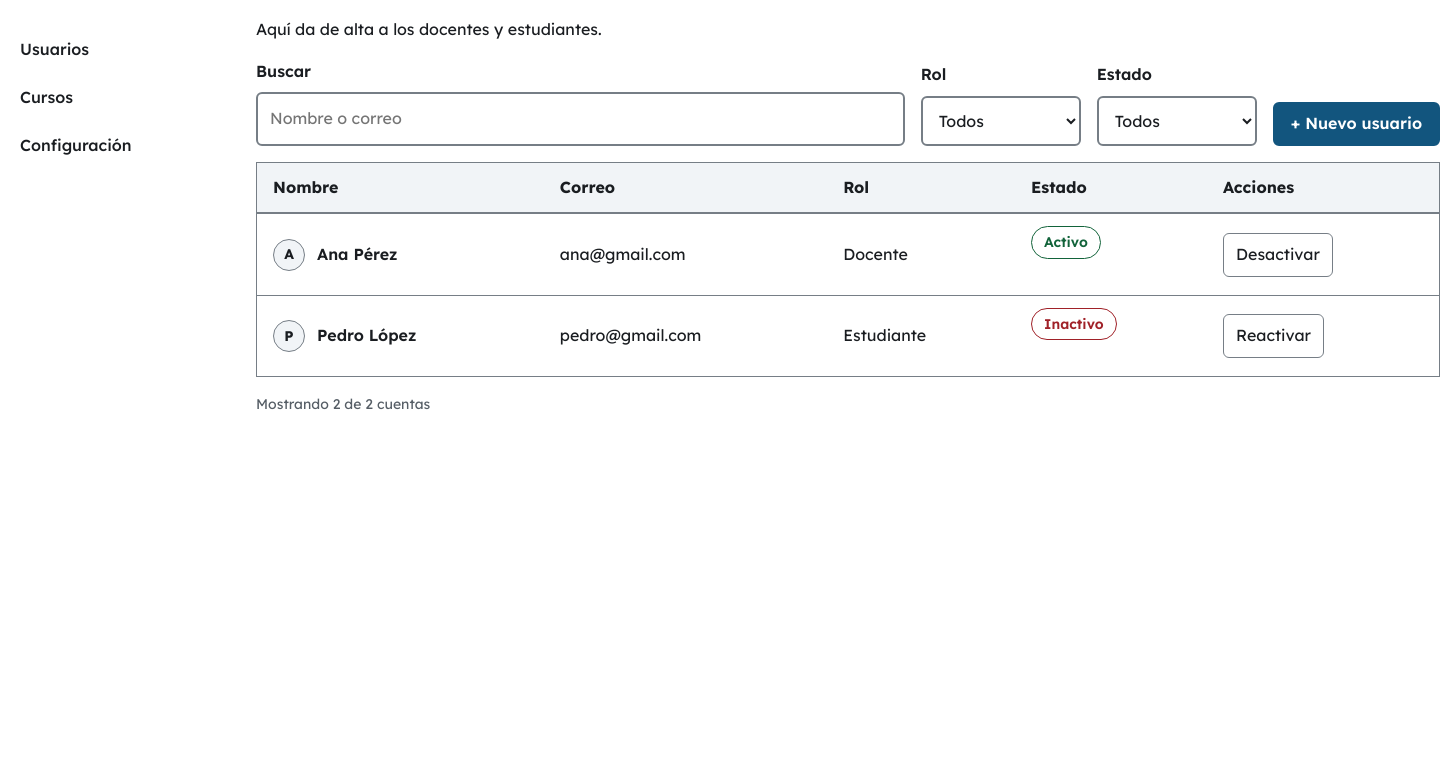
Test: Gestión de usuarios › un correo repetido se explica sin jerga
Click the button "+ Nuevo usuario" at (1356, 124), box [1273, 102, 1439, 146]
(page scrolled)
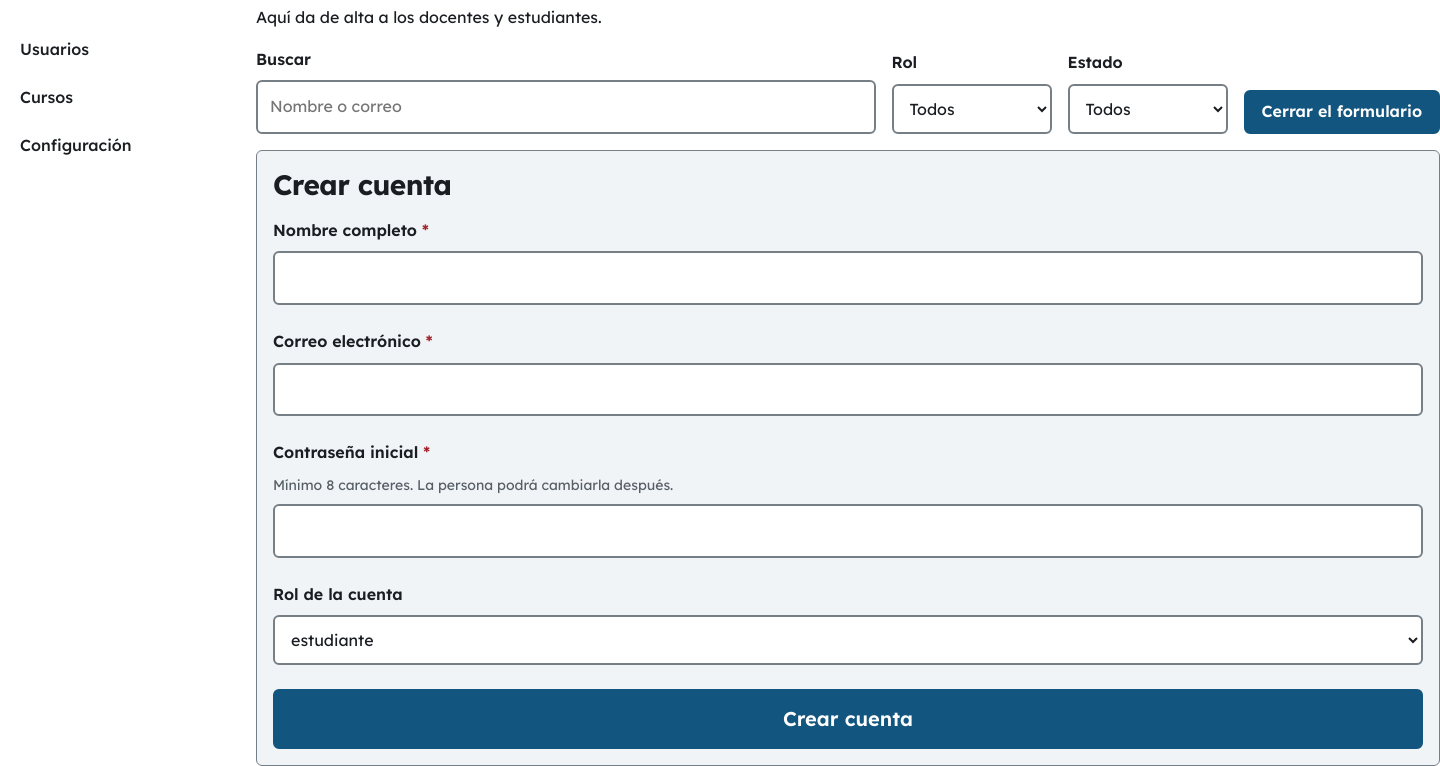
Type "Ana Pérez" into the field labelled "Nombre completo *" at (848, 278), box [273, 251, 1423, 305]
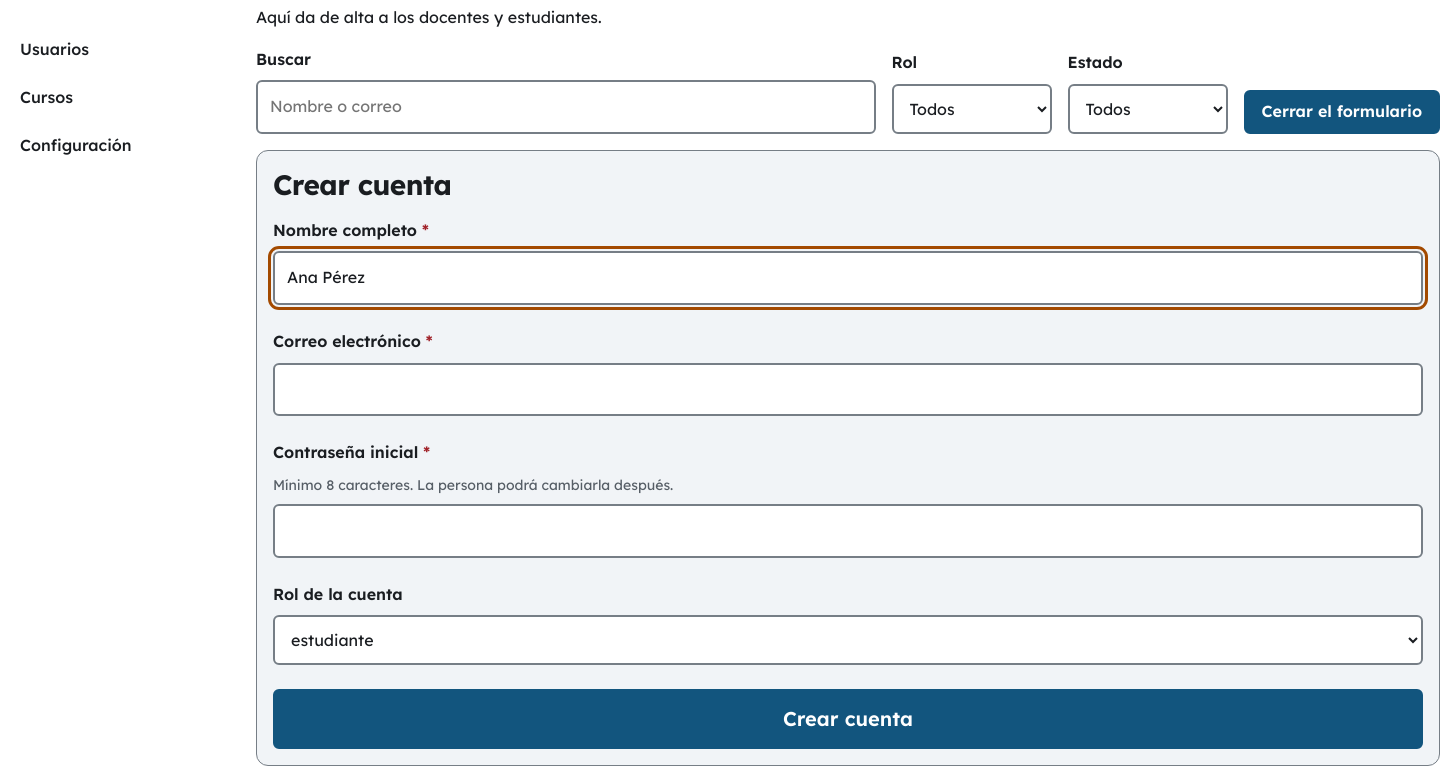
Type "ana@gmail.com" into the field labelled "Correo electrónico *" at (848, 389), box [273, 363, 1423, 416]
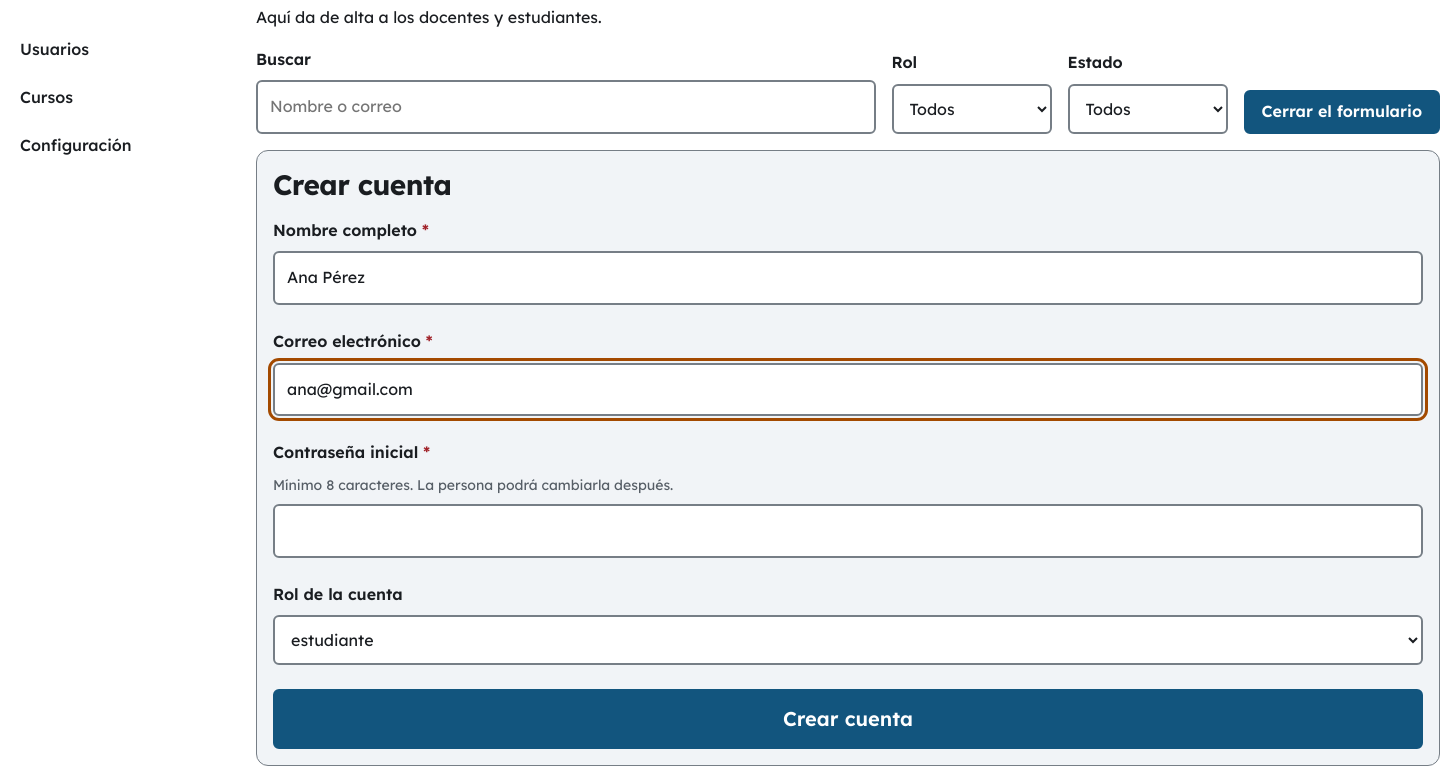
Type "Clave12345" into the password field labelled "Contraseña inicial *" at (848, 531), box [273, 504, 1423, 558]
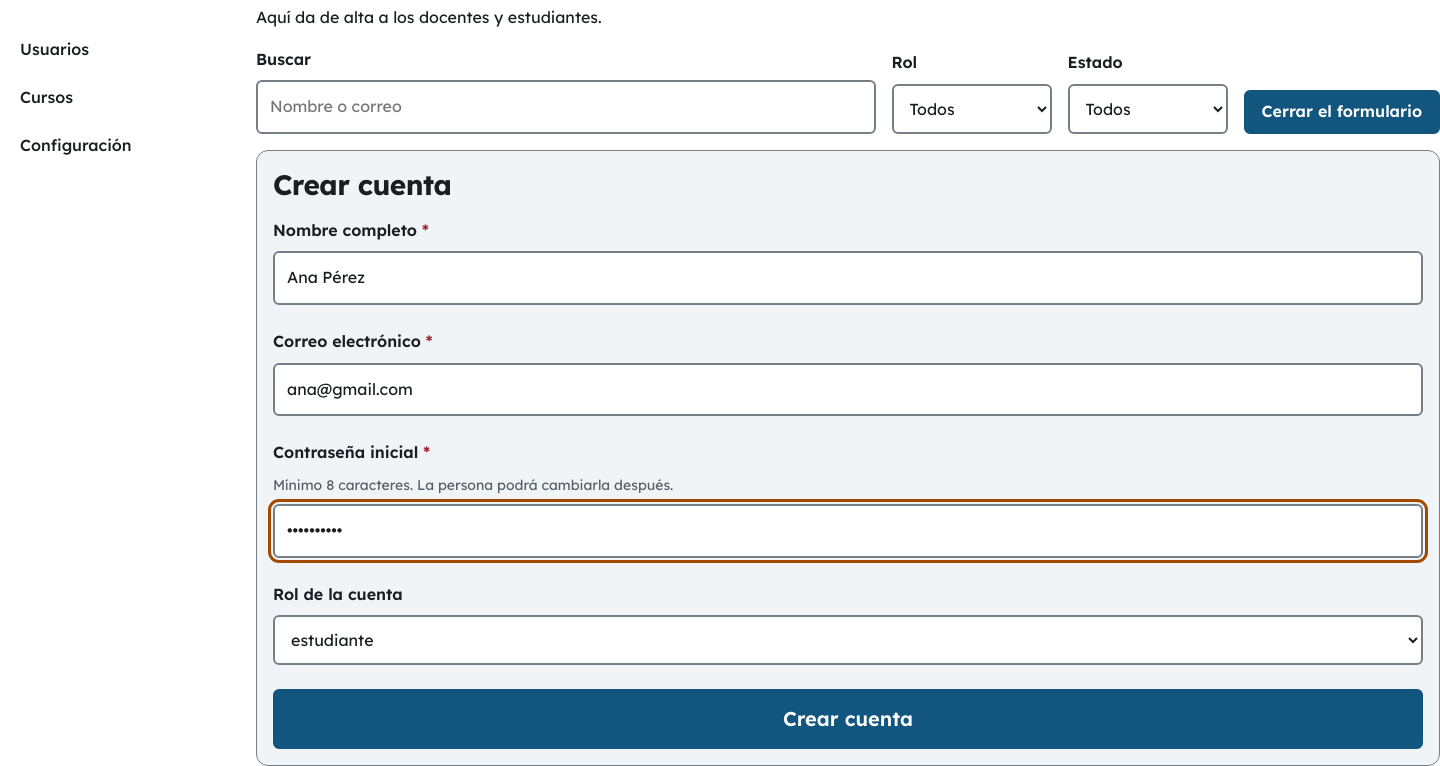
Click the button "Crear cuenta" at (848, 719), box [273, 689, 1423, 749]
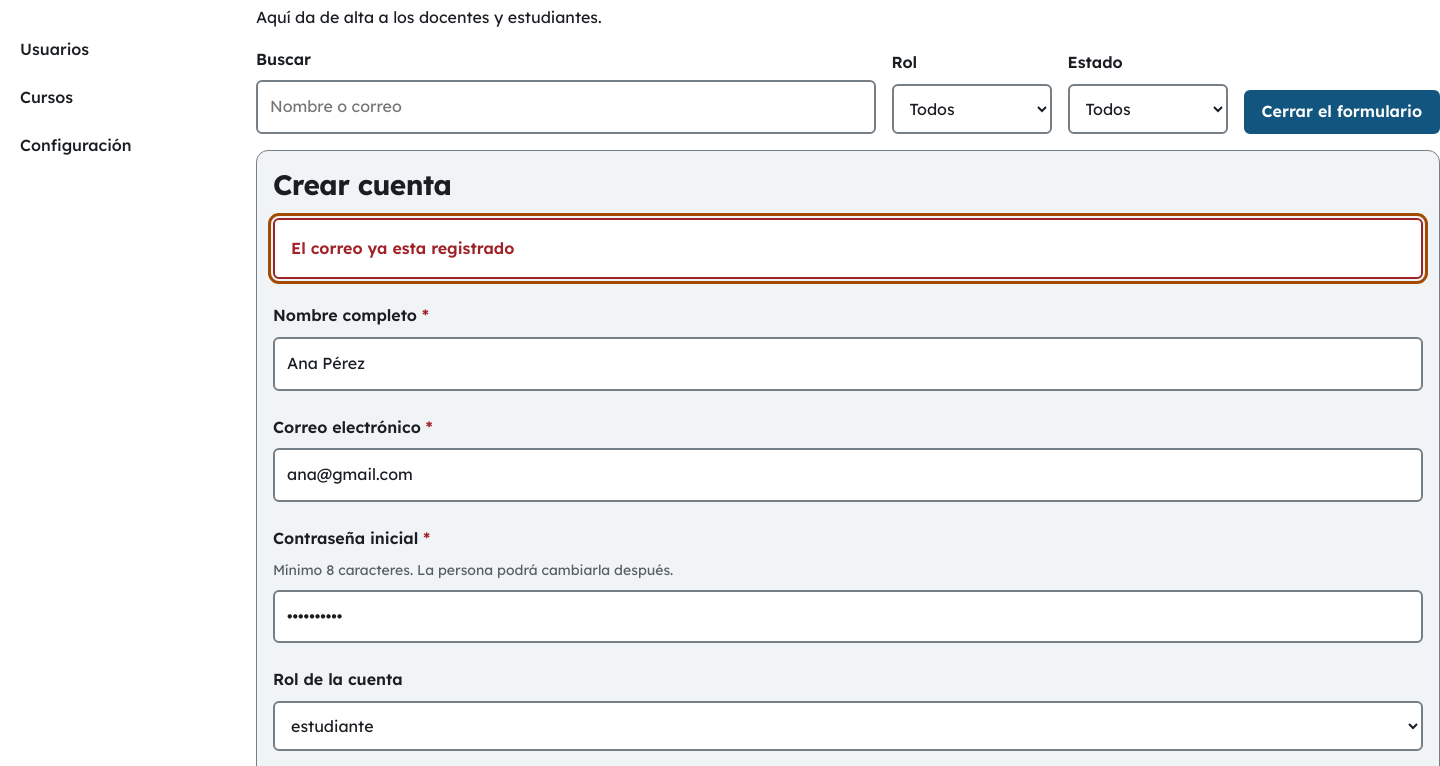
Check: the message reads "El correo ya esta registrado", box [291, 238, 514, 258]
